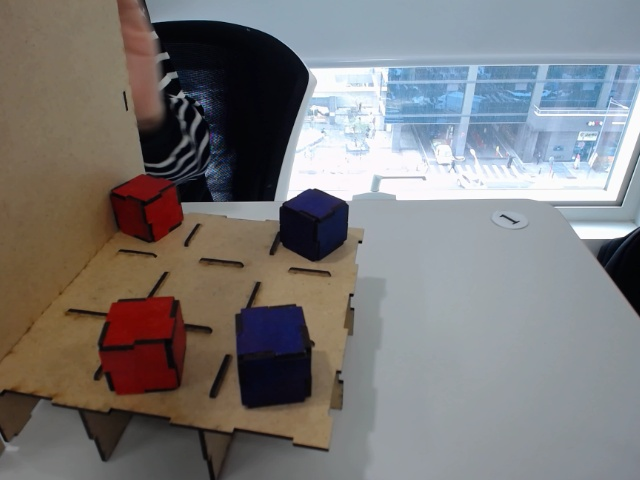blue: (233, 305, 312, 409), (279, 188, 349, 261)
red: (97, 296, 187, 396), (110, 173, 184, 244)
